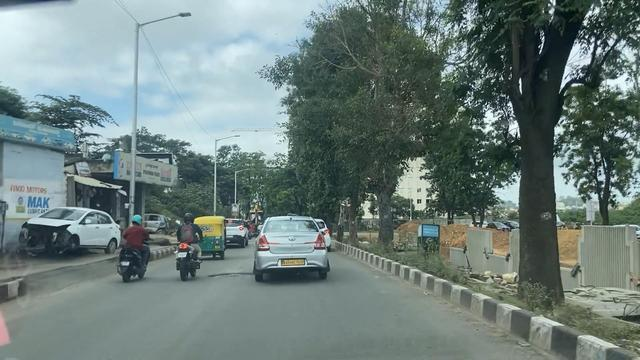LMV: (262, 222, 319, 272), (123, 213, 152, 279), (177, 212, 200, 278)
RoadDamages: (209, 270, 254, 284)
